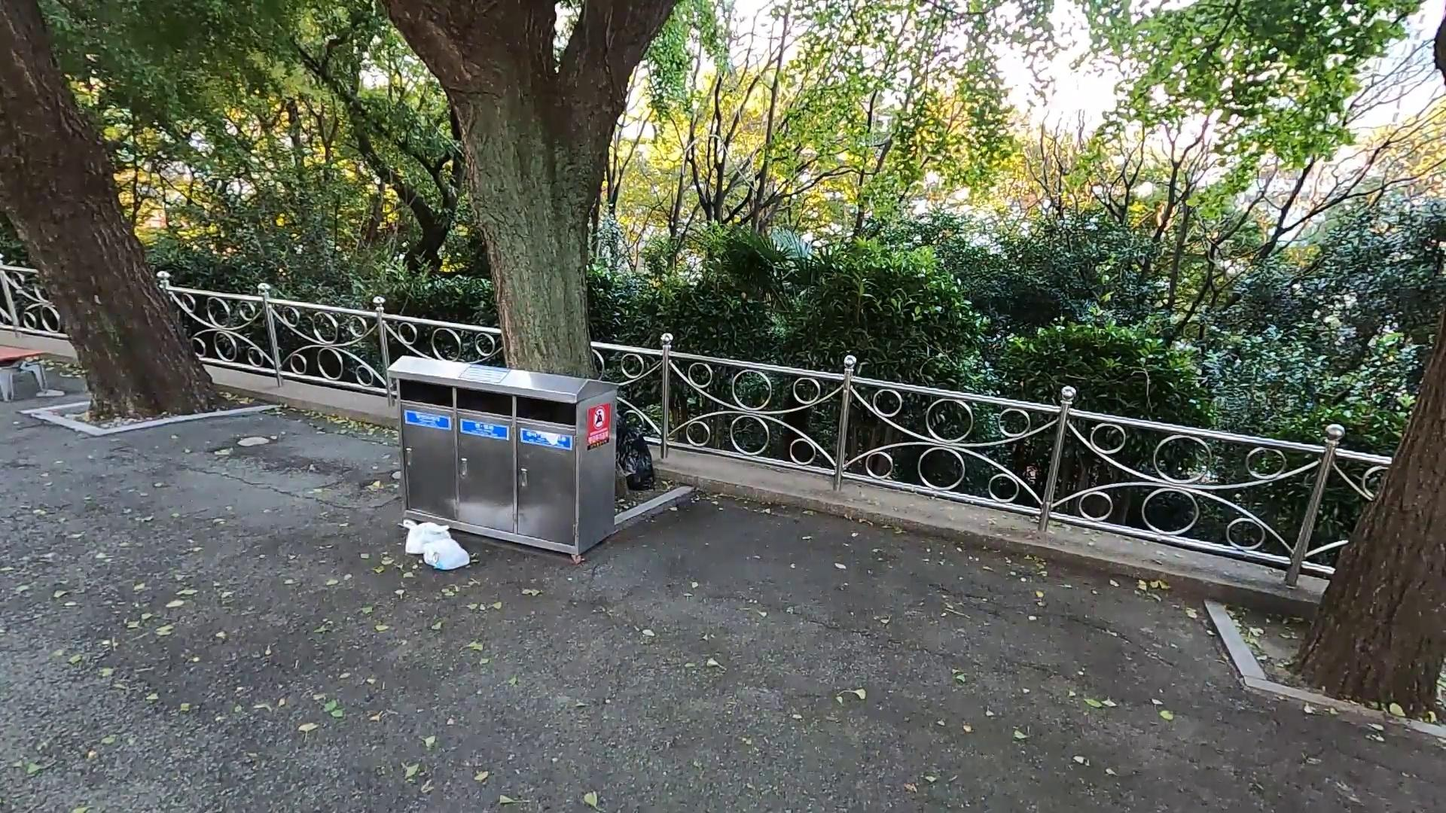trash: (618, 414, 662, 495), (420, 530, 475, 577), (401, 516, 456, 560)
